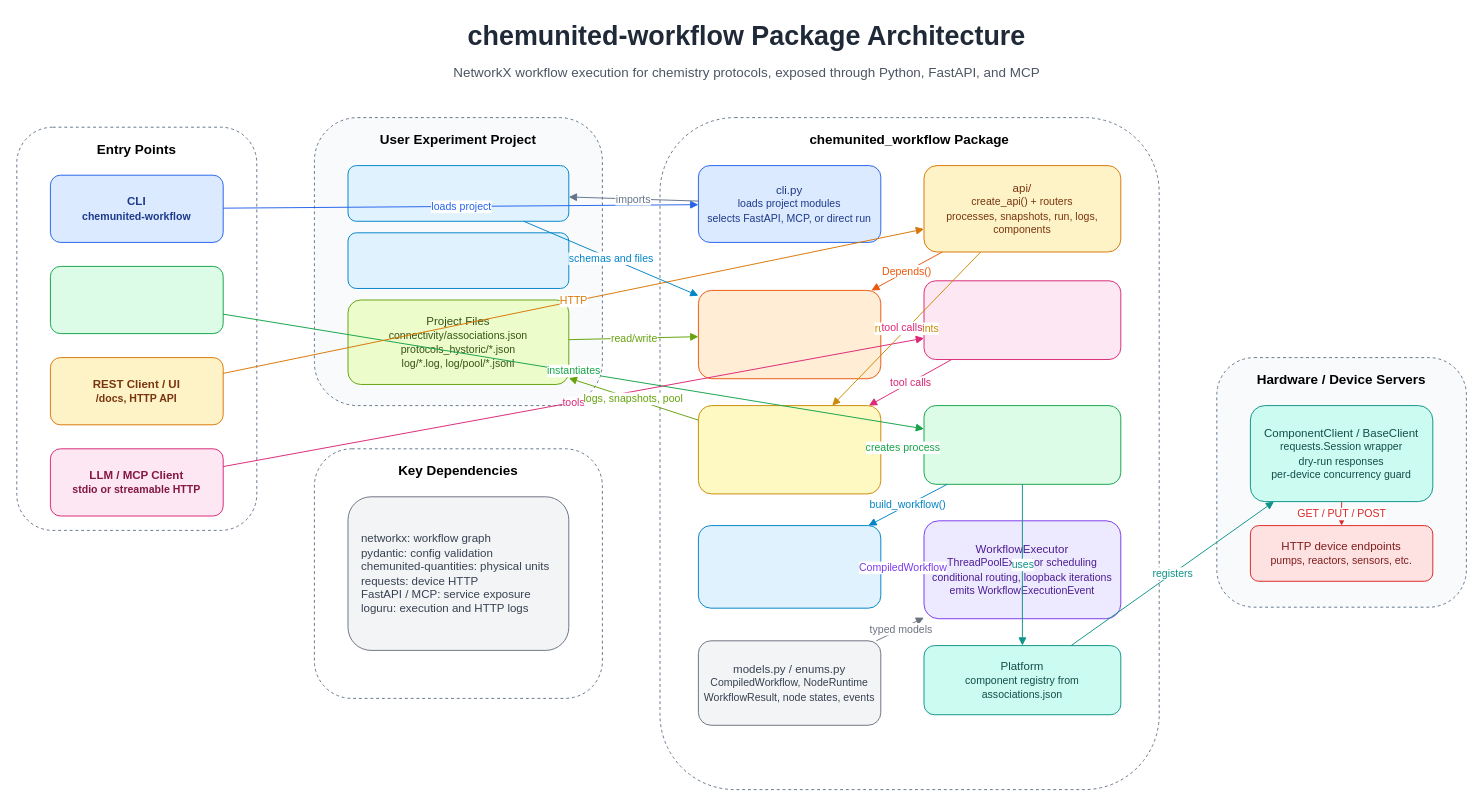
Image size: 1483x806. Some labels were removed from this diagram. Each missing label, with the centre of its shape:
"compile_workflow() validates NetworkX graph splits DAG edges and loopbacks" goes at [789,566].
"main_parameters.py MainParameter Pydantic model" goes at [458,260].
"mcp/ FastMCP server and tools reuses API services" goes at [1022,320].
"Process abstract workflow authoring base loads parameters and snapshots" goes at [1022,444].
"protocols/ PROCESSES, CONFIGS, Process subclasses" goes at [458,193].
"ProtocolService schemas, process source snapshot CRUD, logs, components" goes at [789,334].
"Python Caller Process.run_workflow()" goes at [136,299].
"RunnerService + RunStore starts background run stores state, events, results" goes at [789,449].
